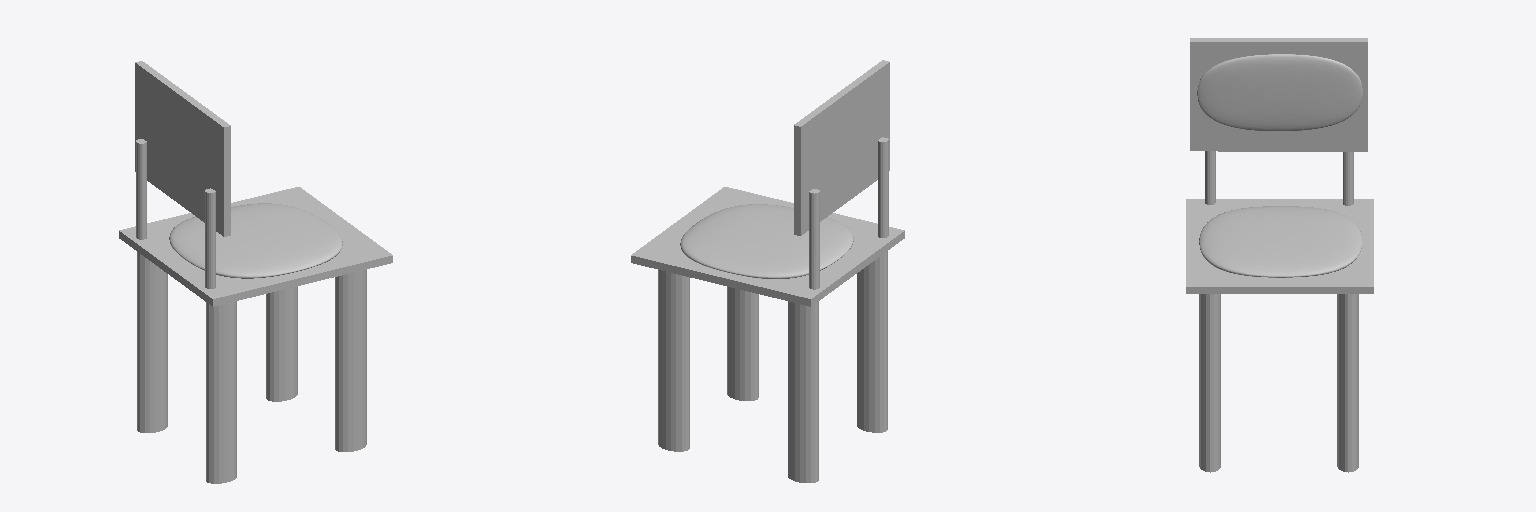
The model's file is Desktop Chair.obj.
3 renders of one model, left to right at view 1: azimuth 30°, elevation 25°; view 2: azimuth 150°, elevation 25°; view 3: azimuth 270°, elevation 25°, orthographic.
Parts seen in each view (by area): view 1: DesktopChairBack, BackCosin, DesktopChairBase, DesktopChairLeg2, DesktopChairLeg1, DesktopChairLeg3, DesktopChairLeg4, DesktopChairBackTube1, DesktopChairBackTube2; view 2: DesktopChairBack, BackCosin, DesktopChairBase, DesktopChairLeg4, DesktopChairLeg3, DesktopChairLeg1, DesktopChairLeg2, DesktopChairBackTube1, DesktopChairBackTube2; view 3: BaseCosin, BackCosin, DesktopChairBack, DesktopChairBase, DesktopChairLeg2, DesktopChairLeg4, DesktopChairBackTube2, DesktopChairBackTube1.
Boxes of the visible parts, x1,y1,x2,y2 form: DesktopChairBack: [135, 61, 230, 236]; BackCosin: [169, 203, 342, 278]; DesktopChairBase: [119, 187, 392, 306]; DesktopChairLeg2: [335, 269, 366, 451]; DesktopChairLeg1: [206, 301, 236, 483]; DesktopChairLeg3: [137, 252, 167, 432]; DesktopChairLeg4: [266, 286, 297, 401]; DesktopChairBackTube1: [136, 139, 146, 239]; DesktopChairBackTube2: [205, 188, 215, 288]; DesktopChairBack: [794, 60, 889, 235]; BackCosin: [680, 204, 853, 278]; DesktopChairBase: [631, 187, 904, 306]; DesktopChairLeg4: [658, 270, 689, 451]; DesktopChairLeg3: [788, 301, 818, 482]; DesktopChairLeg1: [857, 251, 887, 432]; DesktopChairLeg2: [727, 287, 758, 400]; DesktopChairBackTube1: [809, 189, 819, 289]; DesktopChairBackTube2: [878, 137, 888, 237]; BaseCosin: [1197, 54, 1362, 130]; BackCosin: [1199, 206, 1361, 277]; DesktopChairBack: [1190, 38, 1367, 151]; DesktopChairBase: [1186, 199, 1373, 293]; DesktopChairLeg2: [1199, 294, 1220, 472]; DesktopChairLeg4: [1337, 294, 1358, 472]; DesktopChairBackTube2: [1205, 151, 1215, 204]; DesktopChairBackTube1: [1343, 152, 1353, 205].
Bounding box in the file's own units: 2.09 × 3.98 × 1.89.